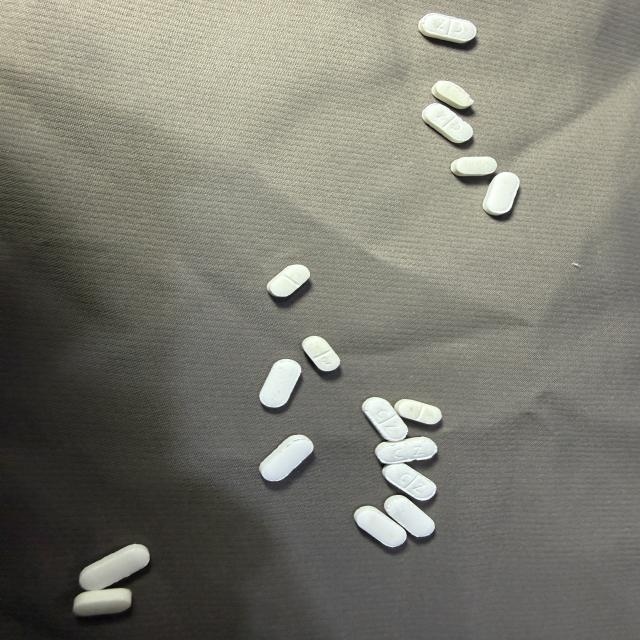pill: (80, 544, 149, 590), (259, 435, 313, 481), (354, 506, 406, 547), (384, 495, 434, 537), (422, 103, 473, 143), (362, 397, 407, 441), (260, 359, 301, 407), (383, 464, 436, 500), (419, 13, 476, 43), (376, 437, 437, 464), (73, 588, 131, 616), (483, 172, 519, 215), (267, 265, 310, 297), (302, 336, 340, 371), (432, 81, 474, 109), (395, 399, 441, 424), (451, 157, 497, 176)
